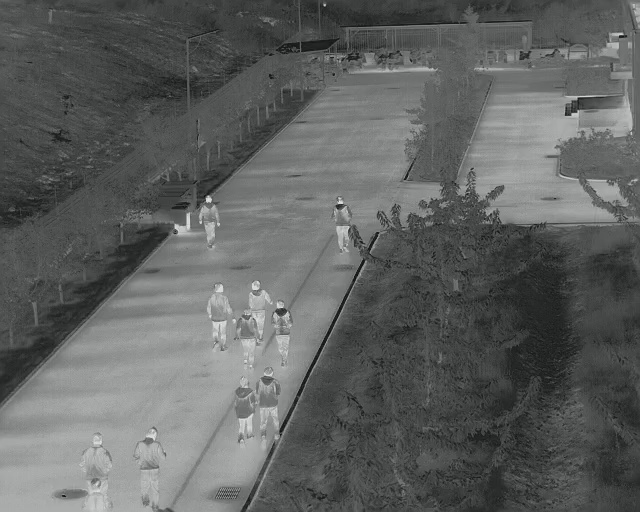person: (132, 426, 168, 512), (254, 368, 283, 449), (79, 433, 112, 497), (206, 282, 236, 352), (233, 376, 257, 448), (270, 298, 294, 369), (235, 308, 262, 369), (248, 280, 273, 342), (197, 195, 221, 251), (331, 196, 353, 255)
